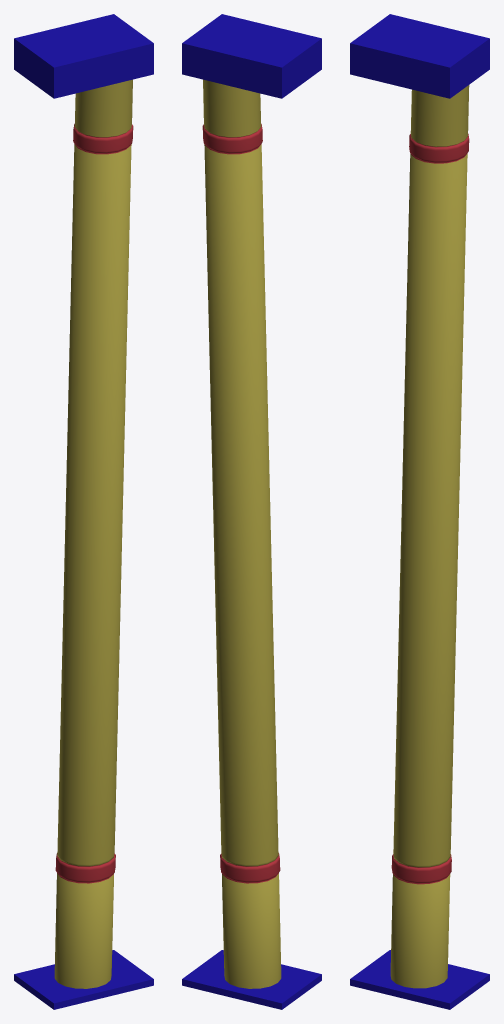
The model's file is Rain Pipe.fbx.
The picture shows the model from 3 angles, left to right: view 1: azimuth 30°, elevation 25°; view 2: azimuth 150°, elevation 25°; view 3: azimuth 330°, elevation 25°; orthographic projection.
Parts seen in each view (by area): view 1: Rain Pipe; view 2: Rain Pipe; view 3: Rain Pipe.
Boxes of the visible parts, x1=… form: Rain Pipe: x1=14, y1=14, x2=153, y2=1009; Rain Pipe: x1=182, y1=14, x2=321, y2=1009; Rain Pipe: x1=350, y1=14, x2=489, y2=1009.
Bounding box in the file's own units: 44.76 × 31 × 403.
